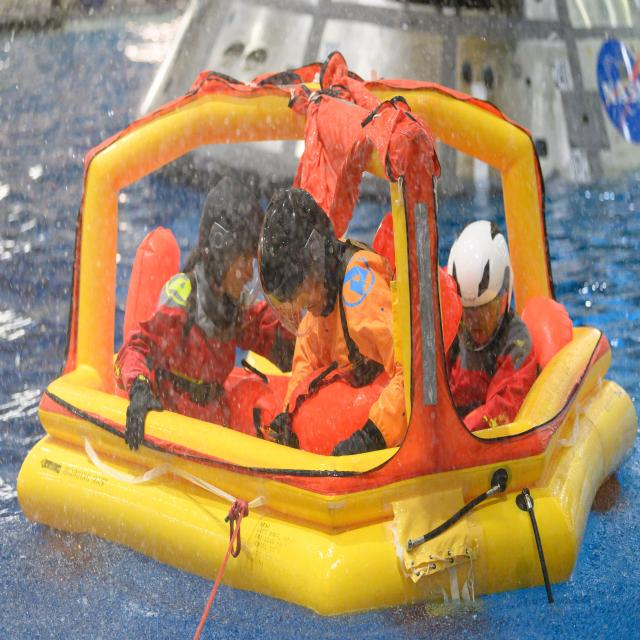Mannequin_wearing_orange-colored_life_preserver_unit_ LPU: (288, 213, 462, 458), (122, 225, 181, 347), (222, 365, 292, 444), (520, 295, 574, 371)
Multi-person_life_raft: (16, 48, 638, 618)
